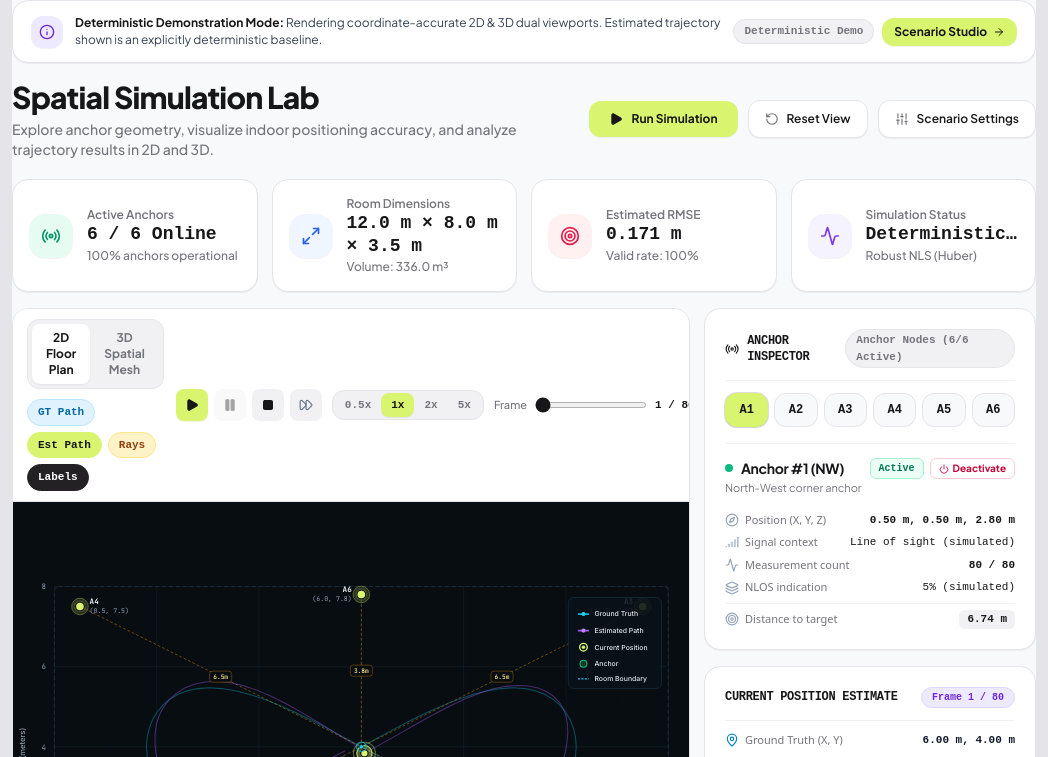
Test case: Spatial Lab Interactive 2D/3D Environment (Phase 2) › displays anchors A1 to A6 and allows selecting a different anchor node
Select anchor A3
Click the button "A3": point(845, 410) [824,393,867,427]
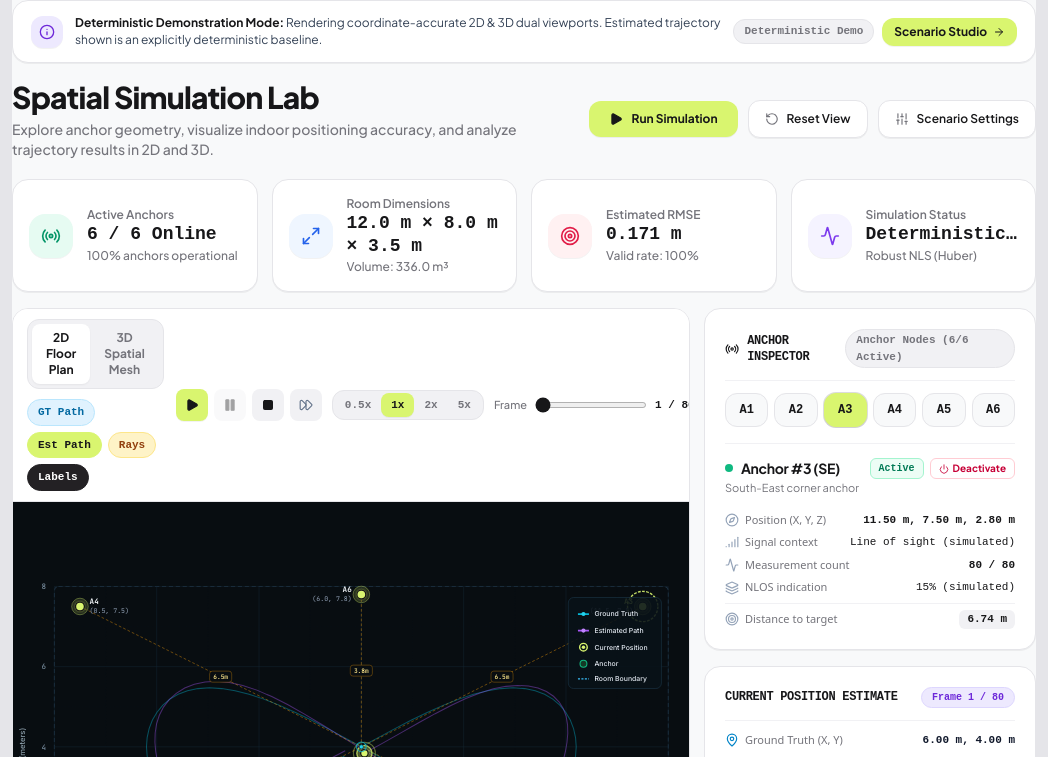
Expected: the text "Anchor #3 (SE)" is shown, [741,458,840,478]
